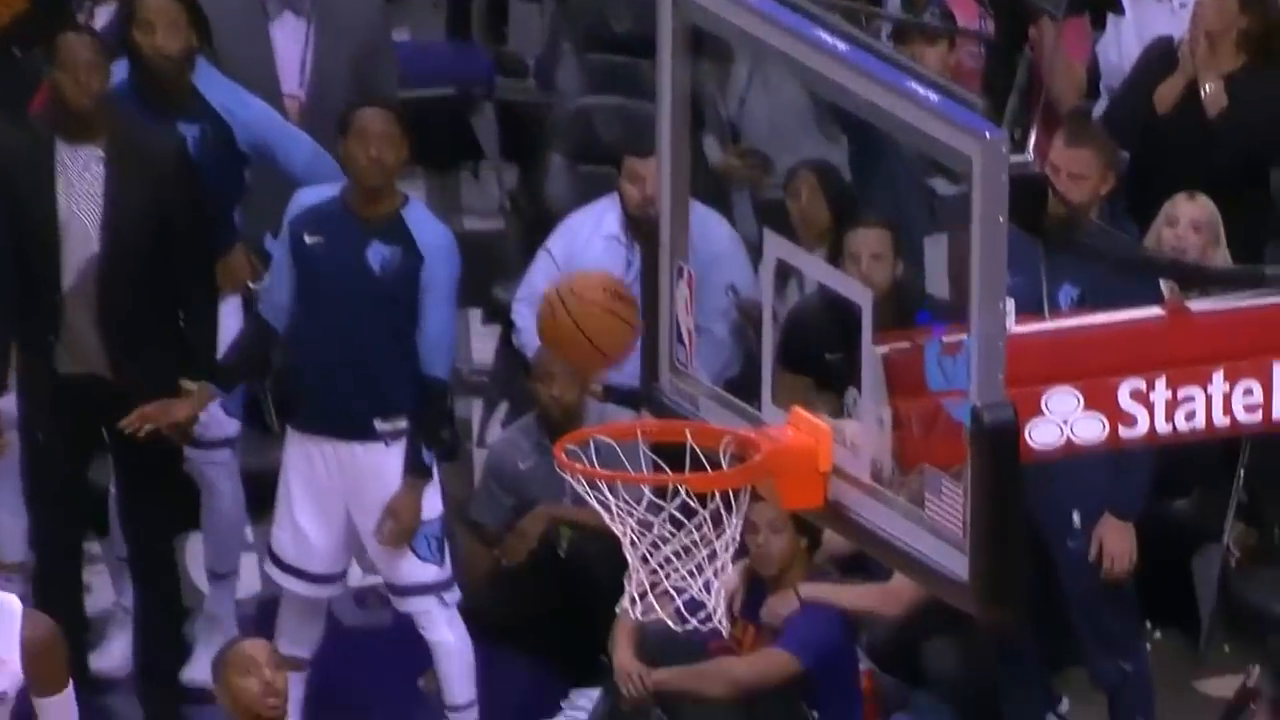ball: (539, 270, 642, 380)
